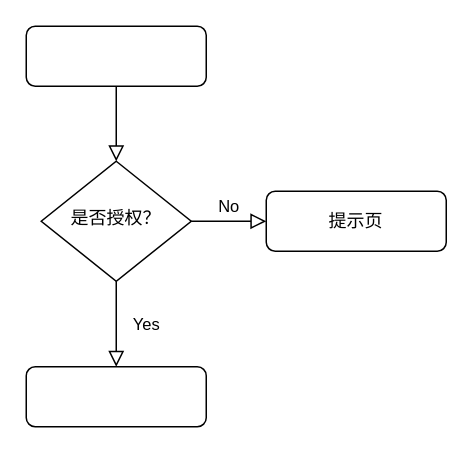
This 473x453 diagram has some shape labels left out. The box of each missing label's shape, as (x1, y1, x2, y2) in pixels:
价差面板: (25, 365, 206, 427)
登录: (25, 25, 206, 86)
